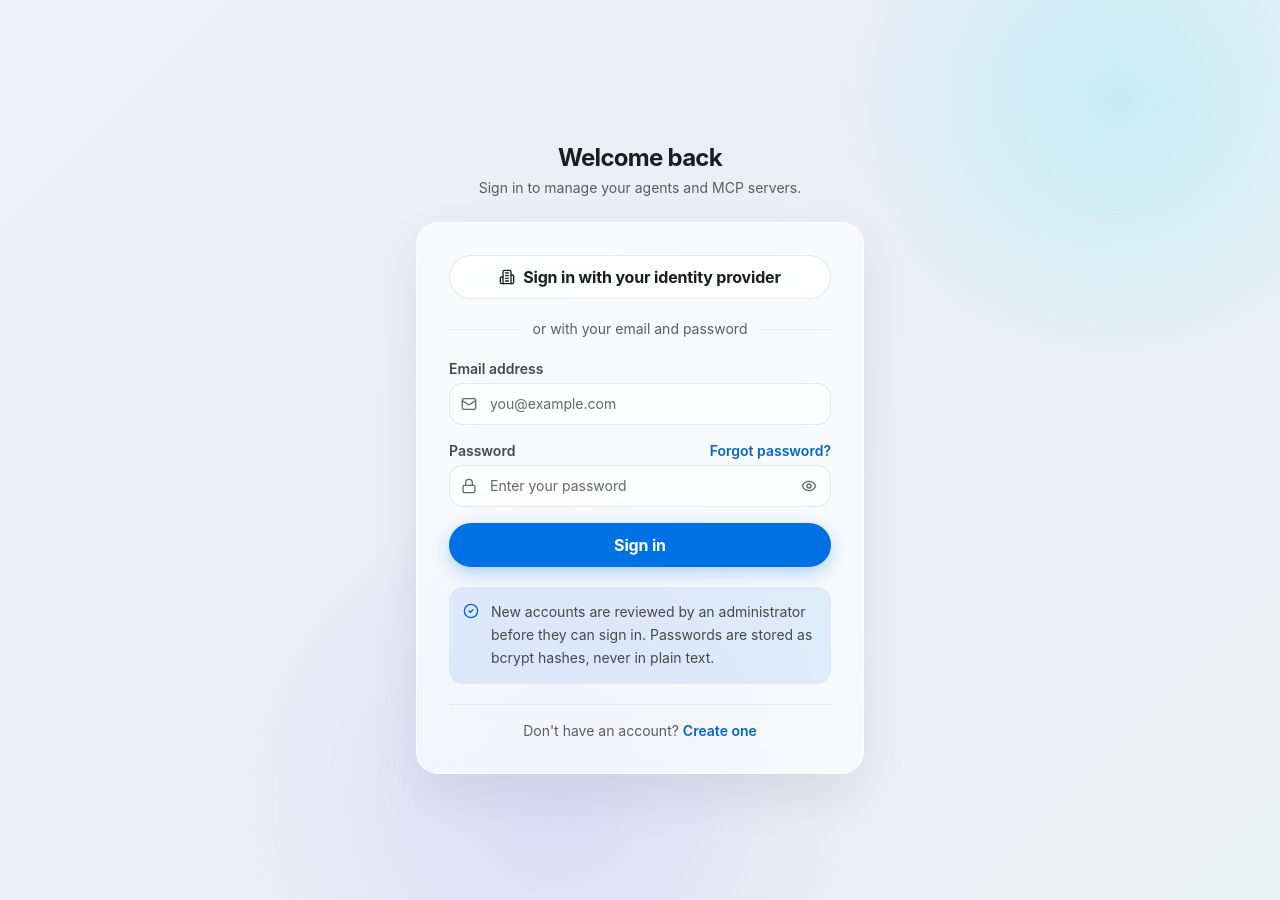
Test case: the sign-in page with an organization's sign-in link › says so when the organization has no provider sign-in, and leaves the page
This screenshot has width=1280, height=900.
Click the button "Sign in with your identity provider" at coordinates (640, 277), box [449,255,831,299]
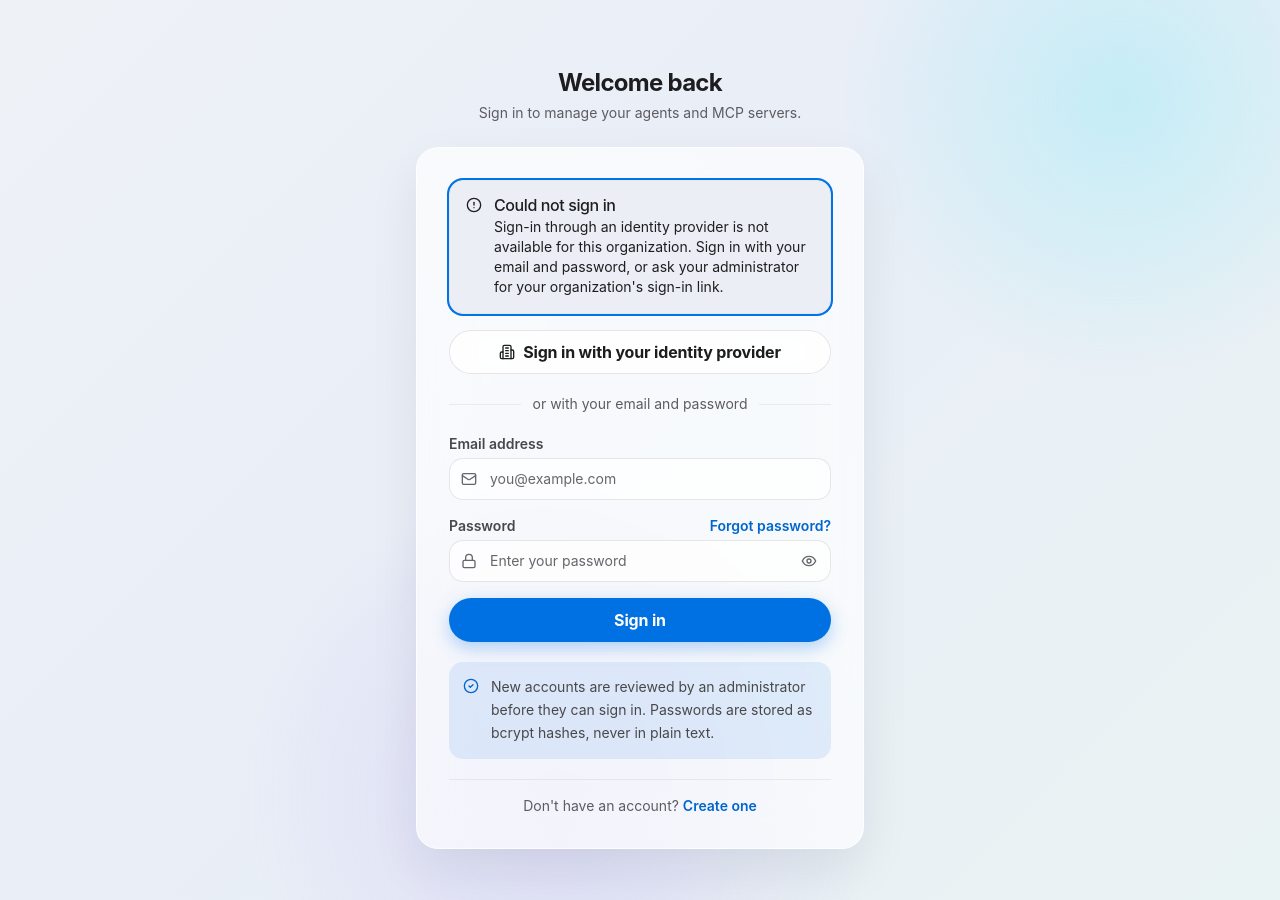
Expected: the button "Sign in with your identity provider" is enabled, [449,330,831,374]
Result: the text "Sign-in through an identity provider is not available for this organization. Sign in with your email and password, or as" is shown at [494,218,806,295]
